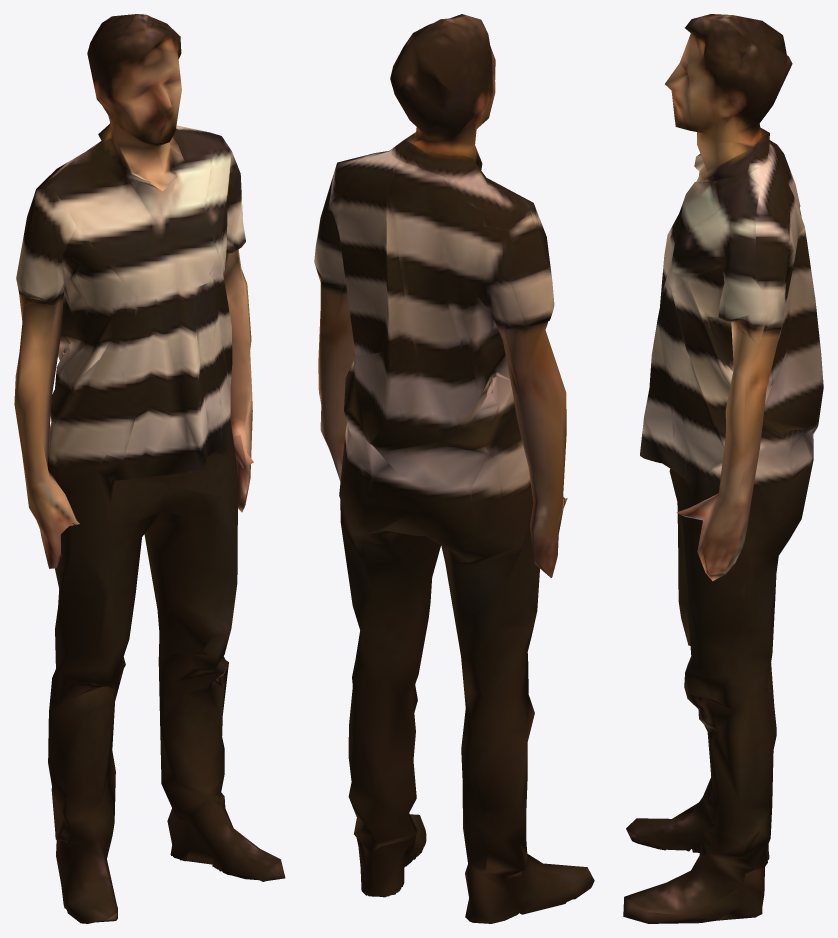
Rendered from young_man_stand.glb.
The picture shows the model from 3 angles, left to right: view 1: azimuth 30°, elevation 25°; view 2: azimuth 150°, elevation 25°; view 3: azimuth 270°, elevation 25°; orthographic projection. The views are drawn at different scales.
Visible parts, largest first — view 1: geometry_0; view 2: geometry_0; view 3: geometry_0.
Part boxes in pixels (box(x1,y1,x2,y2)): geometry_0: box(14, 14, 285, 923); geometry_0: box(314, 14, 594, 923); geometry_0: box(623, 14, 823, 923).
Size of the model in its own units: 0.5005 by 1.73 by 0.3623.
1 material, 1 textured.
